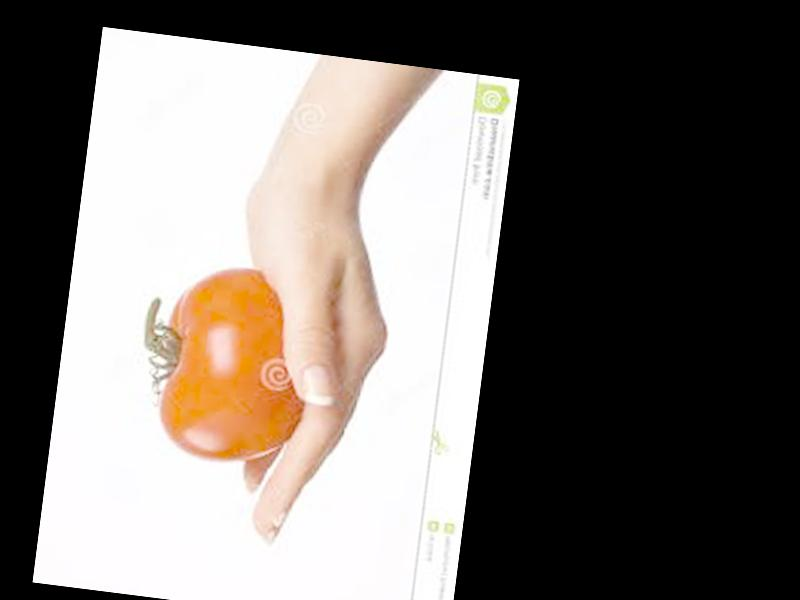Tomato: (152, 259, 319, 470)
